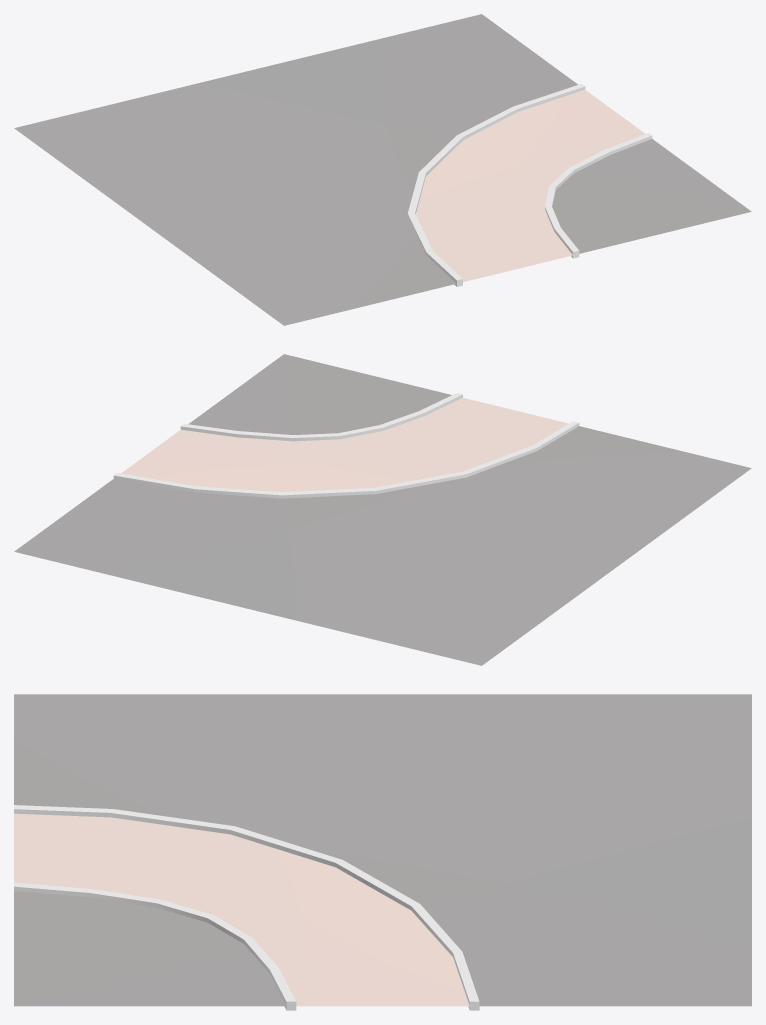
File: building_platform_010.glb
3 renders of one model, top to bottom at view 1: azimuth 30°, elevation 25°; view 2: azimuth 150°, elevation 25°; view 3: azimuth 270°, elevation 25°, orthographic. The views are drawn at different scales.
Parts seen in each view (by area): view 1: building_platform_010; view 2: building_platform_010; view 3: building_platform_010.
Boxes of the visible parts, <box> form: building_platform_010: <box>14,14,751,325</box>; building_platform_010: <box>14,354,751,665</box>; building_platform_010: <box>14,694,751,1010</box>.
Bounding box in the file's own units: 15 × 0.2 × 15.
1 material, 1 textured.
